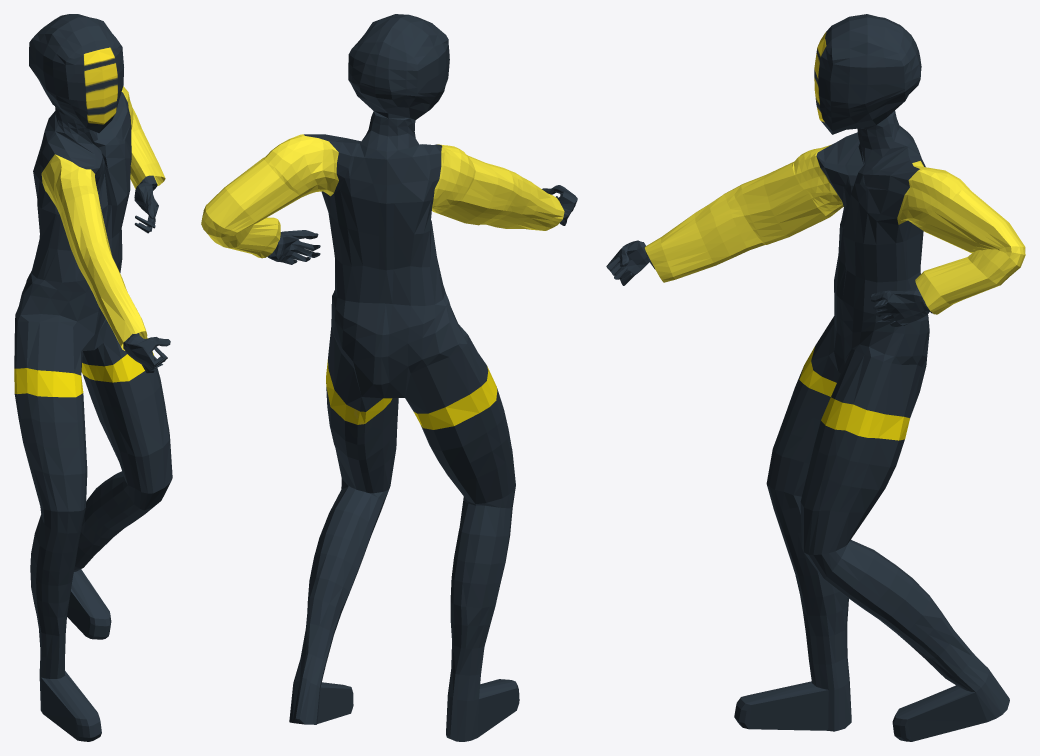
File: Sentry_WF_000009.obj
The picture shows the model from 3 angles, left to right: view 1: azimuth 30°, elevation 25°; view 2: azimuth 150°, elevation 25°; view 3: azimuth 270°, elevation 25°; orthographic projection. The views are drawn at different scales.
Visible parts, largest first — view 1: Cube; view 2: Cube; view 3: Cube.
Boxes of the visible parts, box(x1,y1,x2,y2) form: Cube: box(14, 14, 172, 741); Cube: box(201, 14, 577, 741); Cube: box(606, 14, 1025, 741).
Size of the model in its own units: 1.16 by 3.81 by 1.98.
